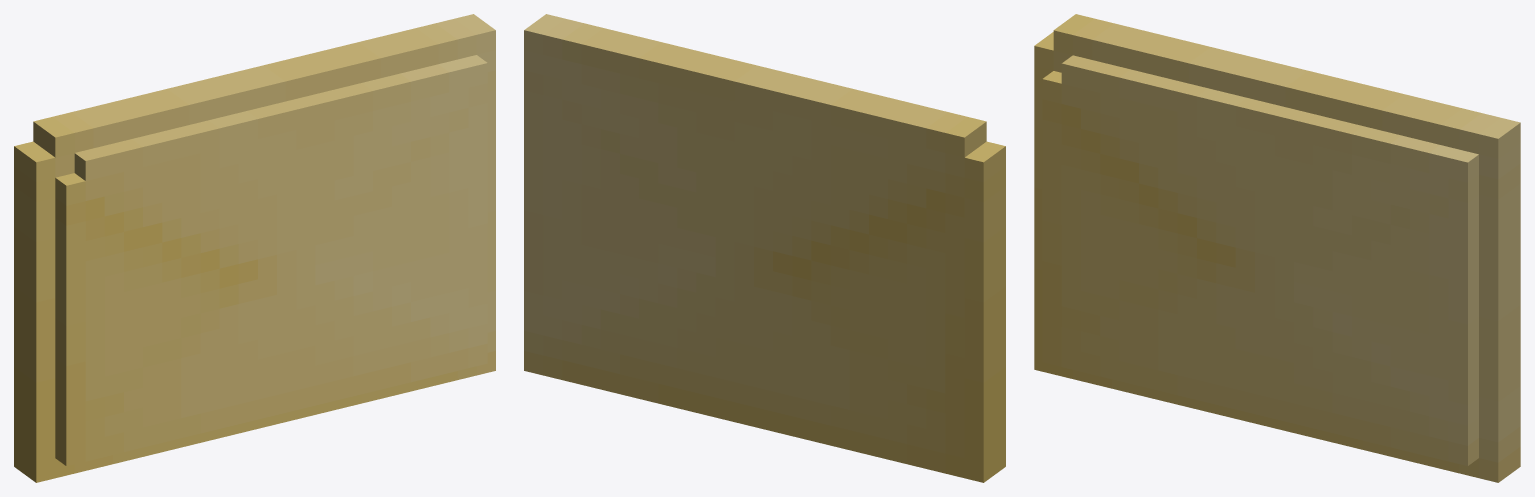
File: envelope-yellow.glb
3 views of the same model, side by side, from view 1: azimuth 30°, elevation 25°; view 2: azimuth 150°, elevation 25°; view 3: azimuth 330°, elevation 25° (orthographic).
Parts seen in each view (by area): view 1: prop; view 2: prop; view 3: prop.
Part boxes in pixels (x1=…): prop: x1=14, y1=14, x2=495, y2=482; prop: x1=524, y1=14, x2=1005, y2=482; prop: x1=1034, y1=14, x2=1520, y2=482.
Size of the model in its own units: 15.53 by 11 by 1.94.
